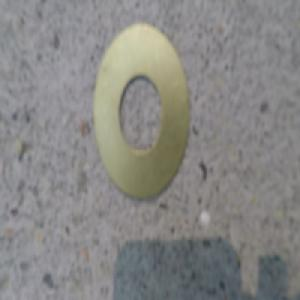Washer: (91, 27, 190, 202)
